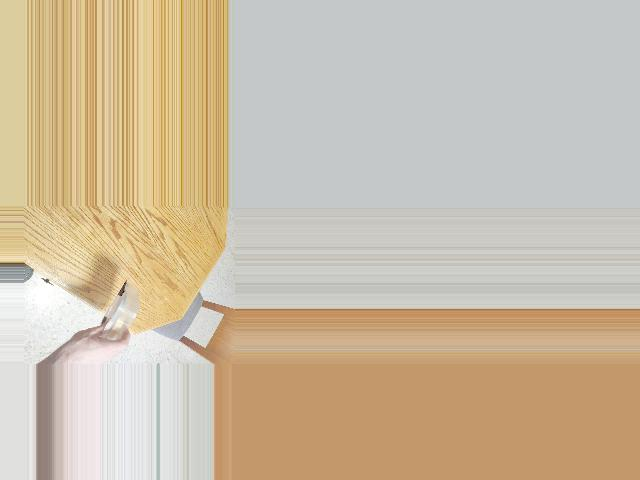cheese: (101, 282, 140, 343)
